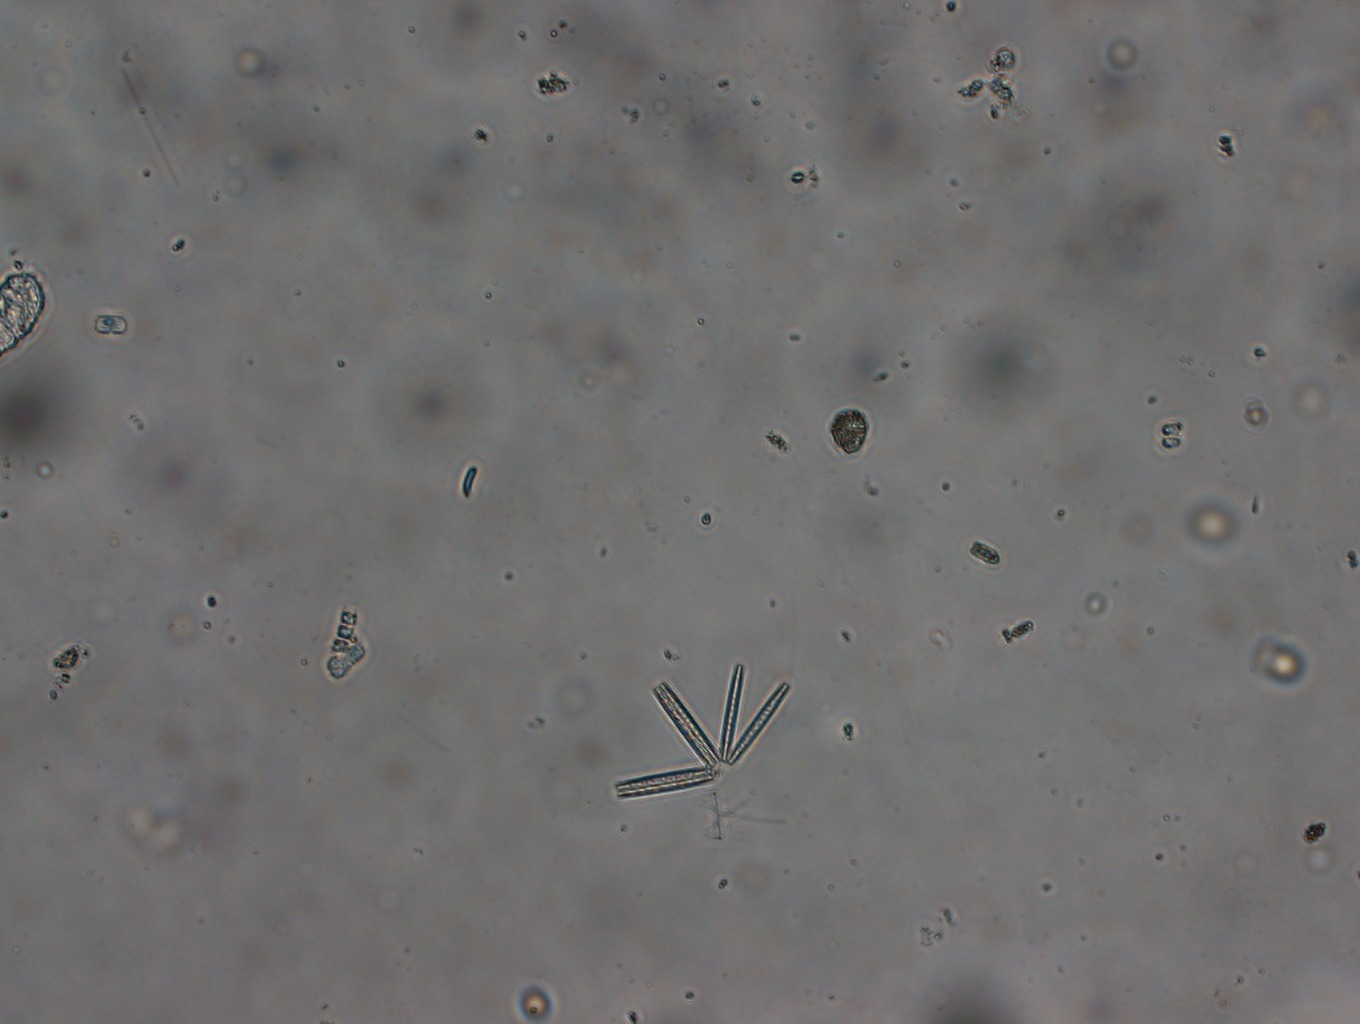thalassionema nitzschioides: (613, 665, 790, 800)
